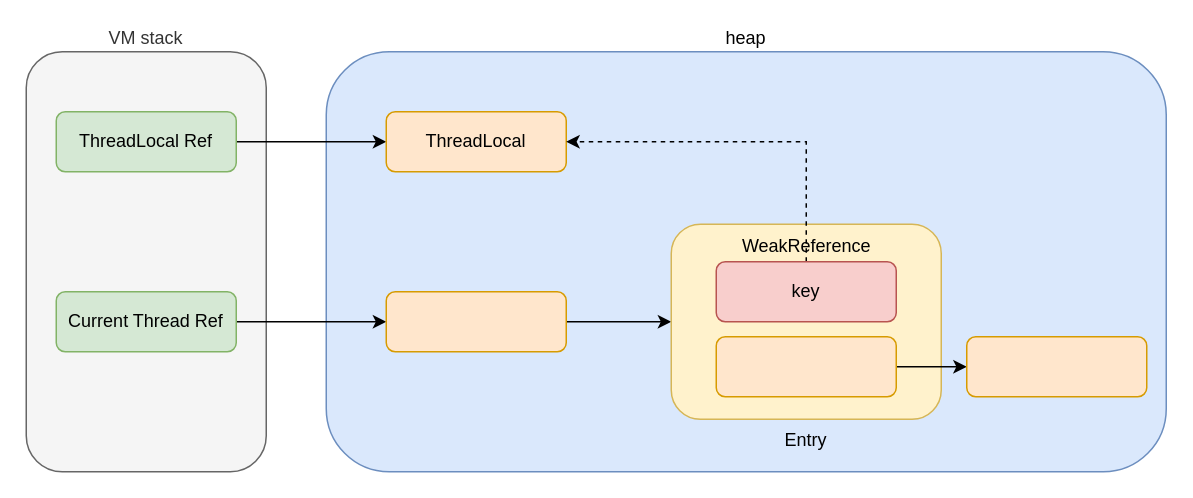
Some shapes in this 1193 by 498 pixel diagram are drawn without their labels. Each missing label, with the centre of its shape:
"Object" belongs at (x=1056, y=366).
"ThreadLocalMap" belongs at (x=475, y=321).
"value" belongs at (x=805, y=366).
